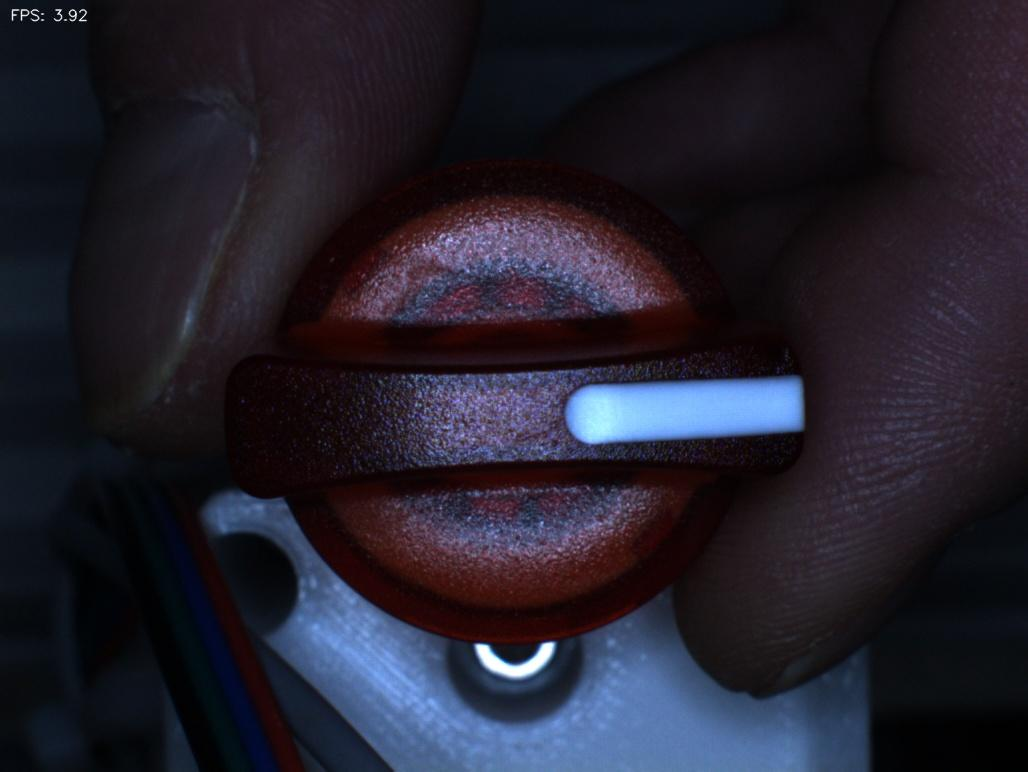Choc: (729, 296, 810, 394)
